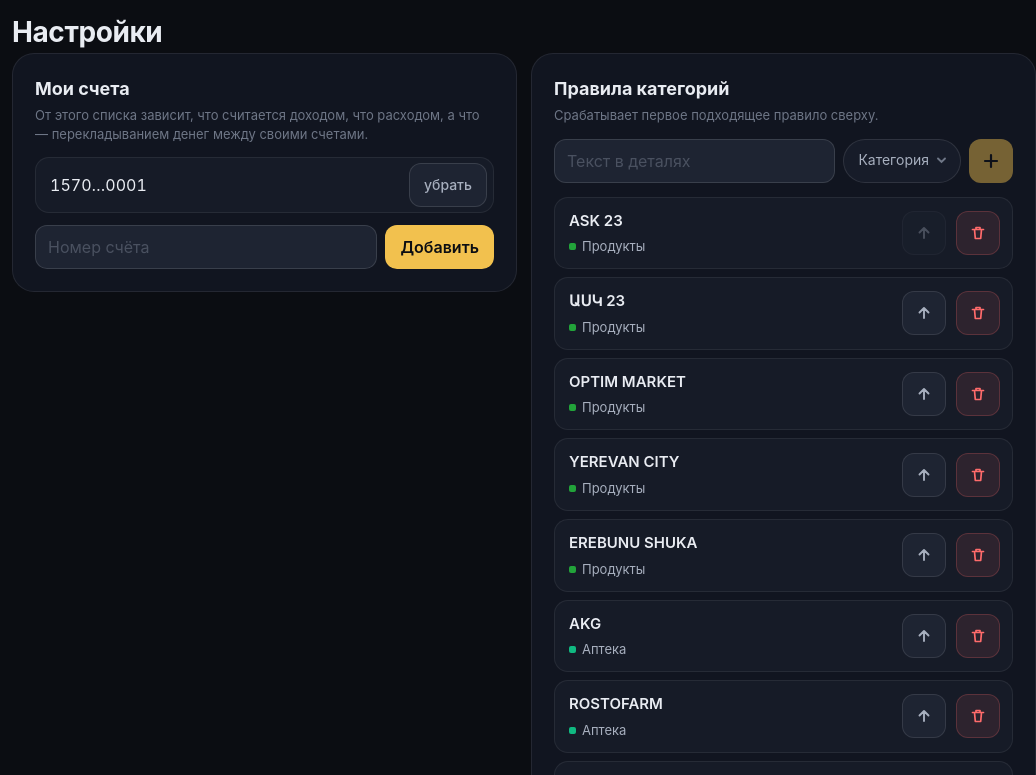
Test: SettingsScreen: свой счёт вручную › не добавляет счёт второй раз
In the field with placeholder "Номер счёта": {"x": 206, "y": 247} 35,225 -> 378,269, type "1570000000000001"
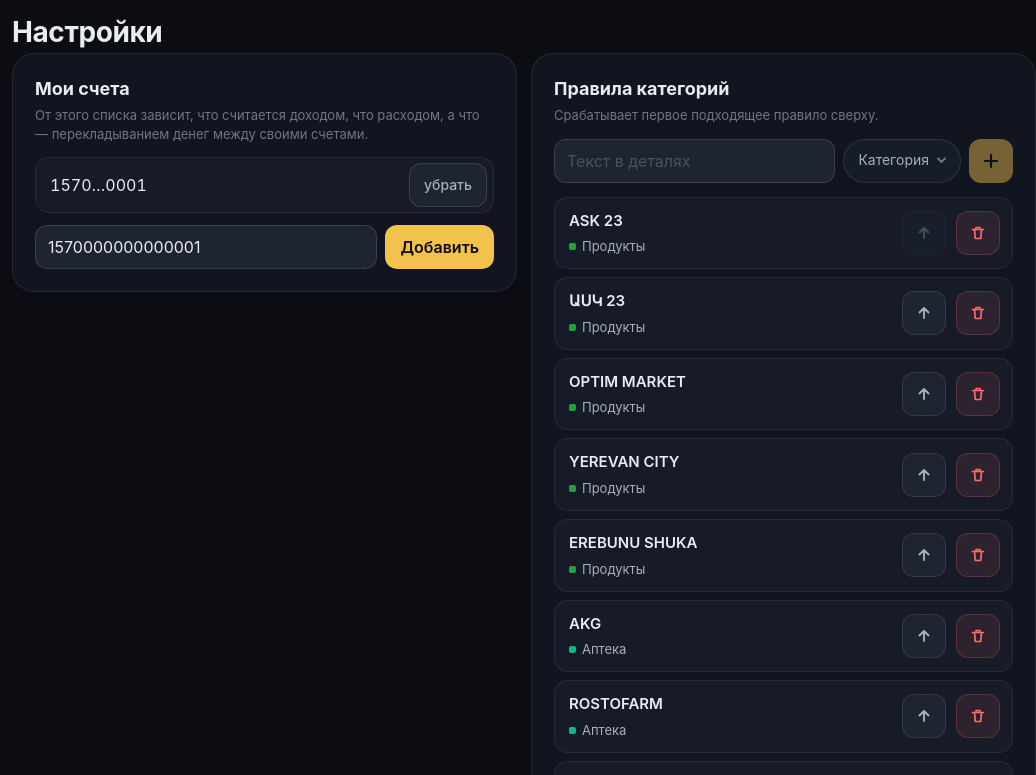
Click the button "Добавить": {"x": 440, "y": 247} 386,225 -> 494,269
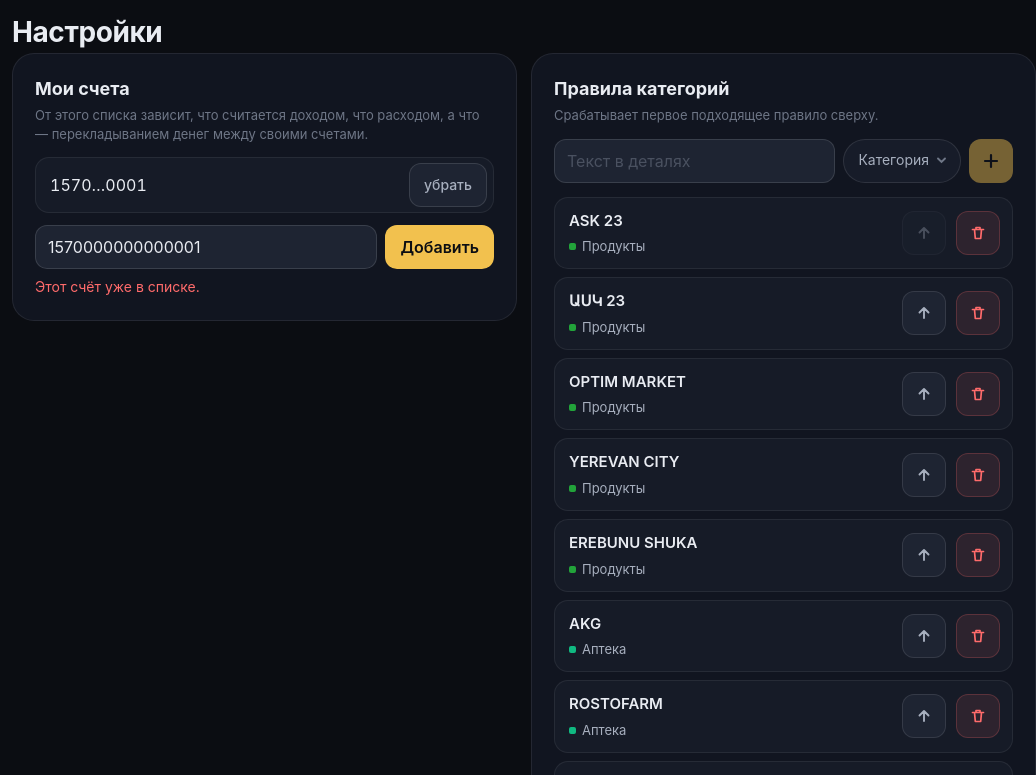
Result: the text "Этот счёт уже в списке." is shown at 35,278 -> 200,295
